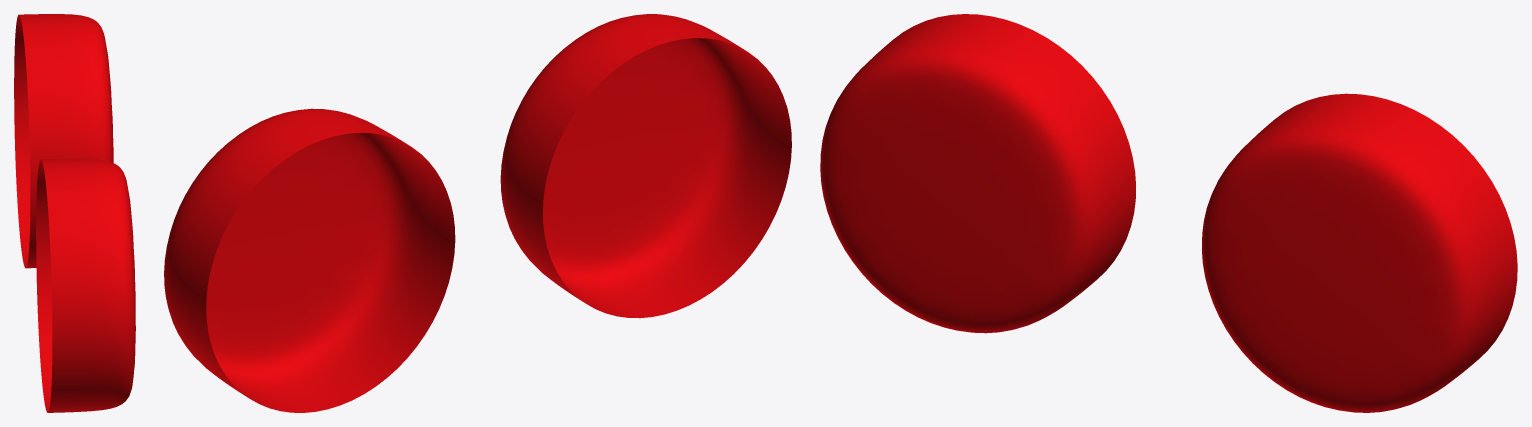
File: retro-game-console-monitor-buttons.fbx
3 views of the same model, side by side, from view 1: azimuth 30°, elevation 25°; view 2: azimuth 150°, elevation 25°; view 3: azimuth 270°, elevation 25° (orthographic). The views are drawn at different scales.
Parts seen in each view (by area): view 1: Circle.003; view 2: Circle.003; view 3: Circle.003.
Part boxes in pixels (x1,y1,x2,y2): Circle.003: (14,14,135,412); Circle.003: (164,14,791,412); Circle.003: (820,14,1517,412).
Size of the model in its own units: 20.07 by 15.37 by 34.02.
